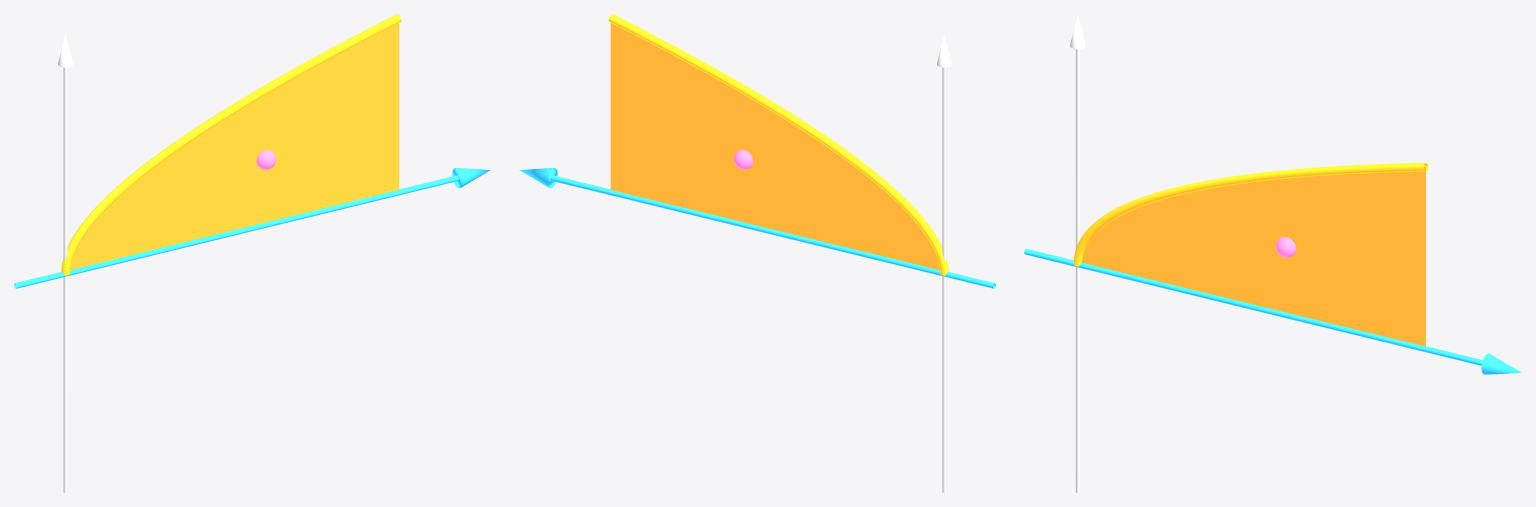
Rendered from peristrofi-omega.glb.
3 views of the same model, side by side, from view 1: azimuth 30°, elevation 25°; view 2: azimuth 150°, elevation 25°; view 3: azimuth 330°, elevation 25° (orthographic). The views are drawn at different scales.
Visible parts, largest first — view 1: chorio, axonas_x, axonas_y; view 2: chorio, axonas_x, axonas_y; view 3: chorio, axonas_x, axonas_y.
Part boxes in pixels (x1=…): chorio: x1=61, y1=14, x2=401, y2=275; axonas_x: x1=14, y1=168, x2=490, y2=288; axonas_y: x1=58, y1=34, x2=72, y2=492; chorio: x1=608, y1=14, x2=948, y2=275; axonas_x: x1=519, y1=168, x2=995, y2=288; axonas_y: x1=937, y1=34, x2=951, y2=492; chorio: x1=1073, y1=163, x2=1428, y2=346; axonas_x: x1=1024, y1=249, x2=1520, y2=374; axonas_y: x1=1070, y1=15, x2=1085, y2=492.
Size of what is drawn, in the model's own units: 0.342 by 0.315 by 0.0132.
